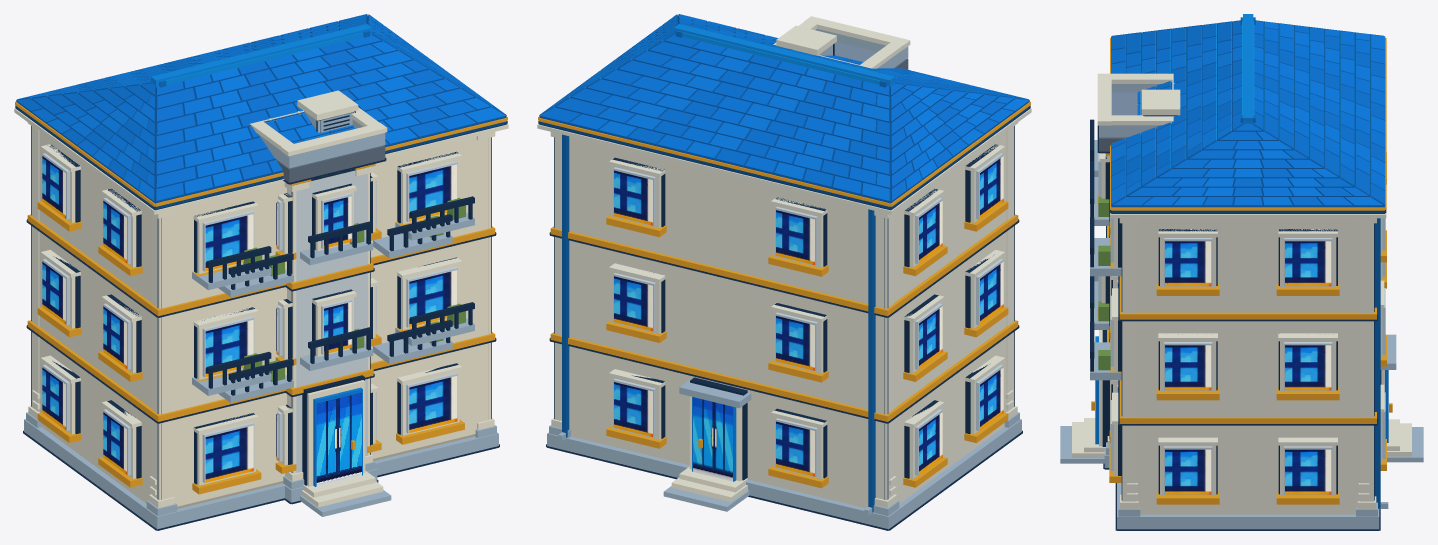
3 renders of one model, left to right at view 1: azimuth 30°, elevation 25°; view 2: azimuth 150°, elevation 25°; view 3: azimuth 270°, elevation 25°, orthographic.
Visible parts, largest first — view 1: A09 门厅公寓; view 2: A09 门厅公寓; view 3: A09 门厅公寓.
Boxes of the visible parts, bbox=[...] form: A09 门厅公寓: bbox=[14, 14, 508, 530]; A09 门厅公寓: bbox=[537, 14, 1031, 530]; A09 门厅公寓: bbox=[1060, 14, 1423, 530].
Bounding box in the file's own units: 7.84 × 8.18 × 7.05.
Materials: 2 (1 with a texture image).
